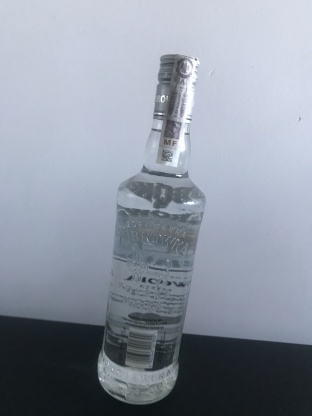nakretka: (150, 50, 202, 127)
